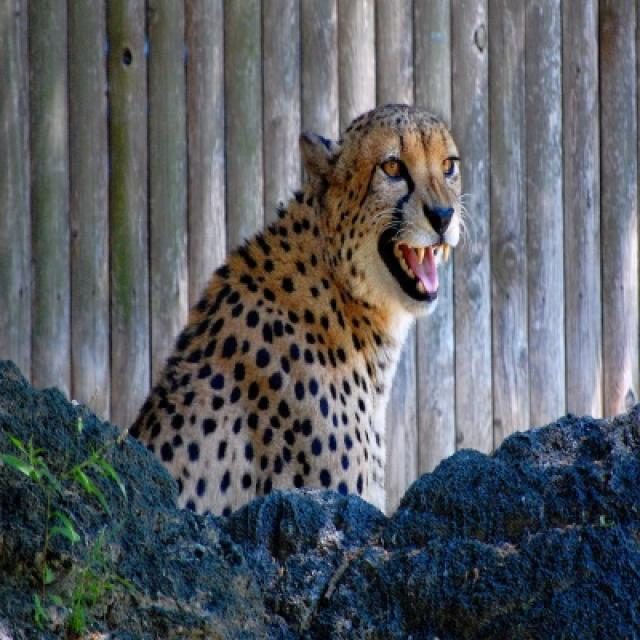Cheetah: (128, 104, 462, 517)
